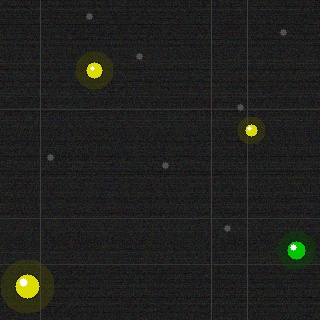green_normal: (285, 239, 307, 261)
yellow_warning: (13, 272, 41, 300), (84, 60, 104, 80), (243, 122, 259, 138)
